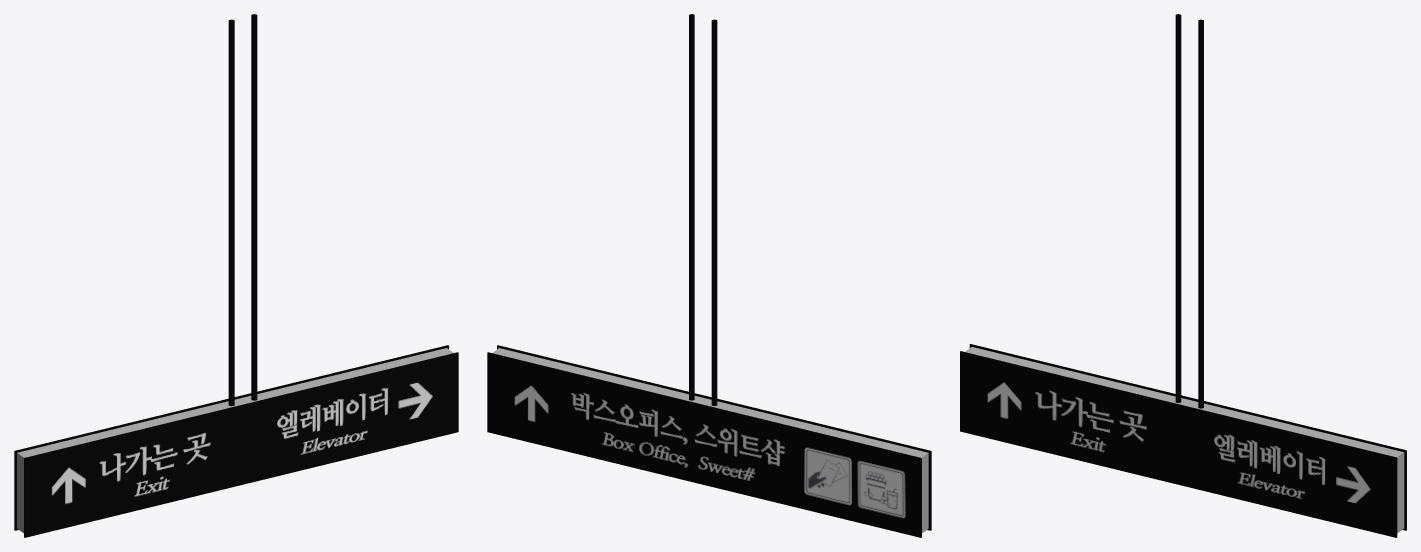
File: LC_3019_GuideSign_A_LOD2.FBX
3 renders of one model, left to right at view 1: azimuth 30°, elevation 25°; view 2: azimuth 150°, elevation 25°; view 3: azimuth 330°, elevation 25°, orthographic.
Visible parts, largest first — view 1: LC_3019_GuideSign_A_LOD2; view 2: LC_3019_GuideSign_A_LOD2; view 3: LC_3019_GuideSign_A_LOD2.
Part boxes in pixels (<box>): LC_3019_GuideSign_A_LOD2: <box>14,14,458,537</box>; LC_3019_GuideSign_A_LOD2: <box>487,14,931,537</box>; LC_3019_GuideSign_A_LOD2: <box>960,14,1406,537</box>.
Size of the model in its own units: 120 by 122 by 4.98.
1 material, 1 textured.
